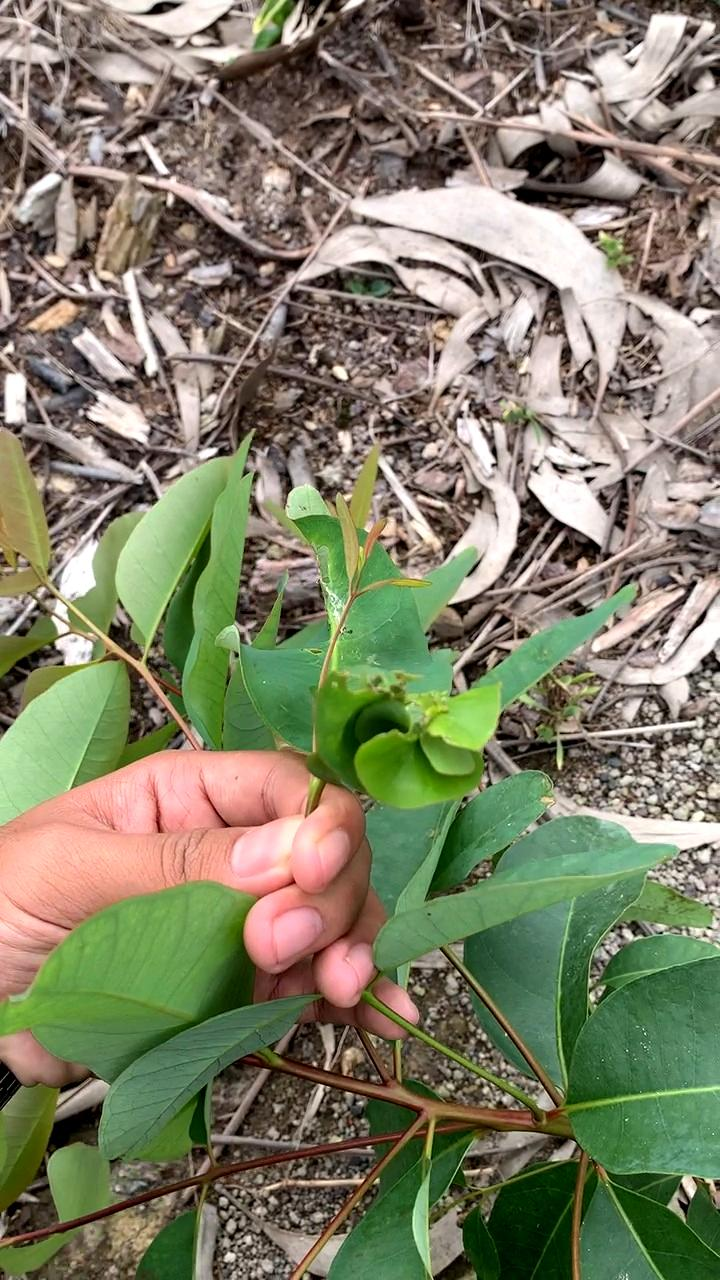Leaf Roller - Leaf: (307, 646, 526, 812)
